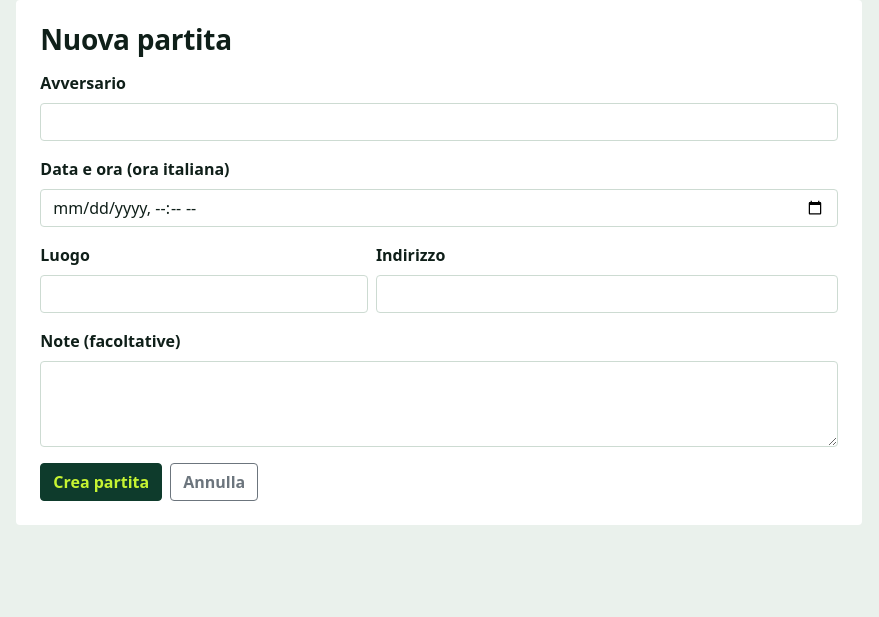
MatchFormPage › valida i campi obbligatori
Click the button "Crea partita" at coordinates (101, 482), box left=40, top=463, right=162, bottom=501
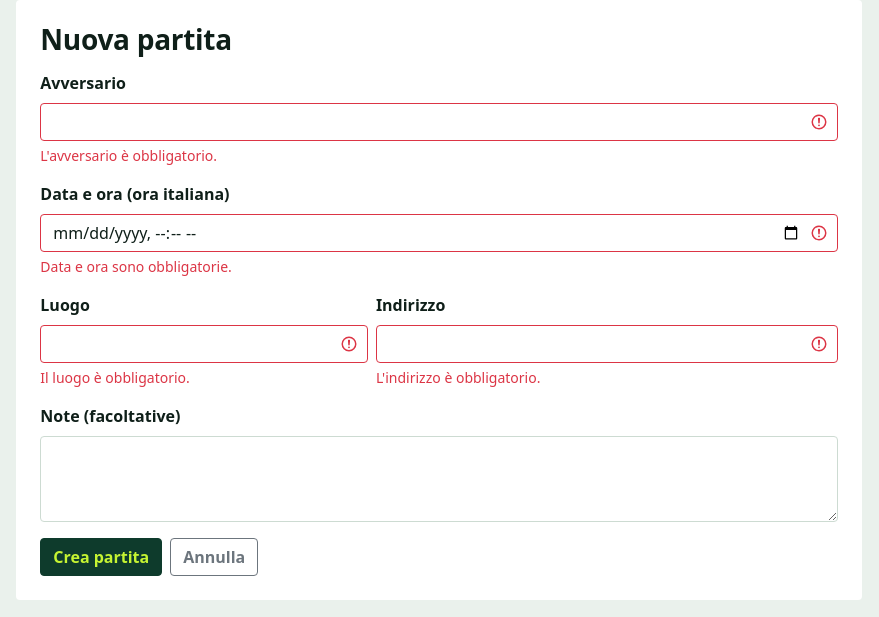
Check: the text "L'avversario è obbligatorio." is shown, box left=40, top=146, right=217, bottom=165
Check: the text "Data e ora sono obbligatorie." is shown, box left=40, top=257, right=232, bottom=276
